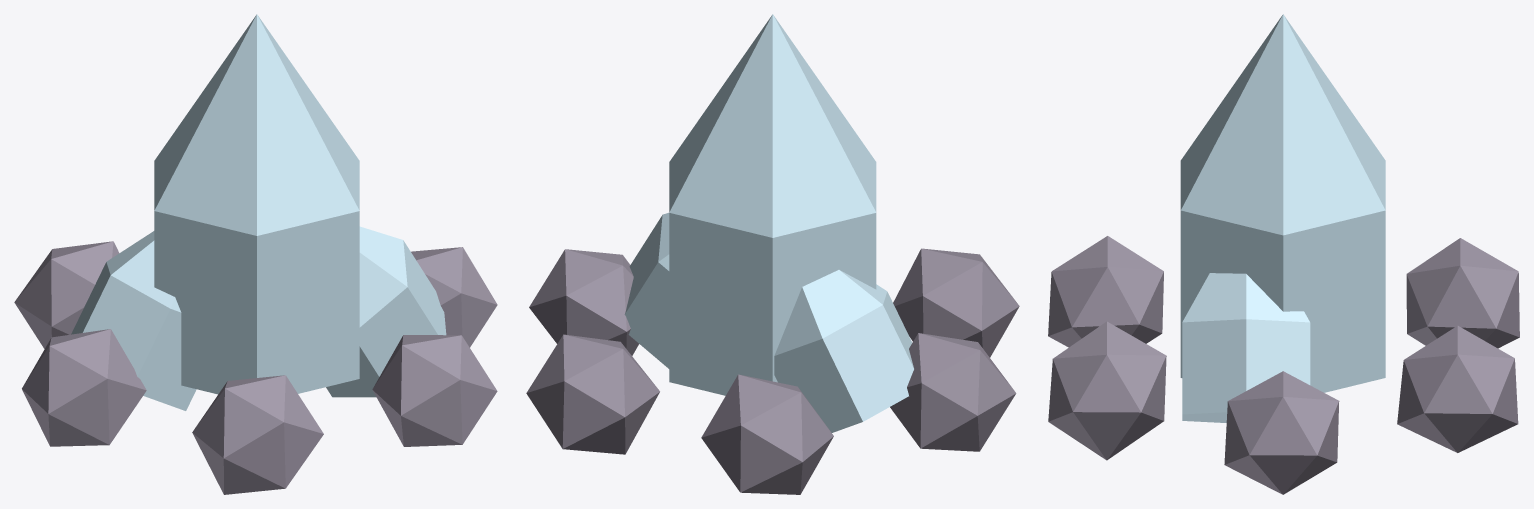
File: MinecartMayhemCrystal.glb
3 renders of one model, left to right at view 1: azimuth 30°, elevation 25°; view 2: azimuth 150°, elevation 25°; view 3: azimuth 270°, elevation 25°, orthographic.
Visible parts, largest first — view 1: Crystal, Stones; view 2: Crystal, Stones; view 3: Crystal, Stones.
Boxes of the visible parts, box(x1,y1,x2,y2) form: Crystal: box(71, 14, 446, 410); Stones: box(14, 241, 497, 494); Crystal: box(624, 14, 913, 432); Stones: box(526, 248, 1019, 494); Crystal: box(1180, 14, 1385, 422); Stones: box(1048, 236, 1519, 494).
Size of the model in its own units: 1.4 by 1.16 by 1.28.
